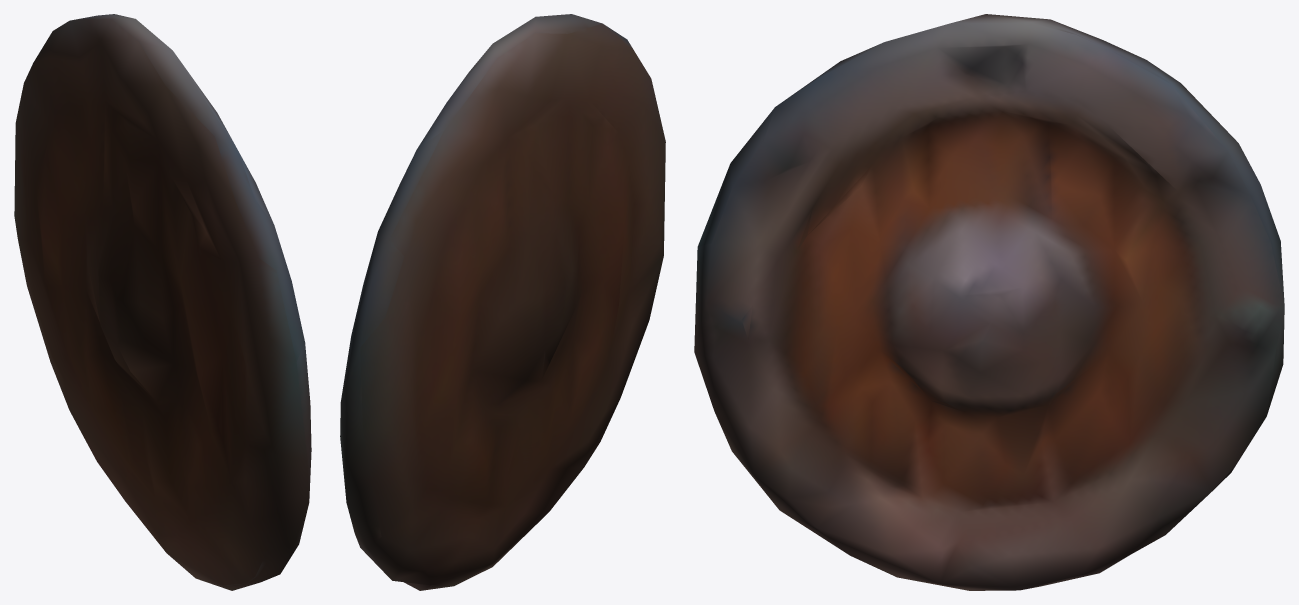
Rendered from shield_silver.glb.
3 views of the same model, side by side, from view 1: azimuth 30°, elevation 25°; view 2: azimuth 150°, elevation 25°; view 3: azimuth 270°, elevation 25° (orthographic).
Parts seen in each view (by area): view 1: model; view 2: model; view 3: model.
Boxes of the visible parts, bbox=[...] form: model: bbox=[14, 14, 311, 590]; model: bbox=[340, 14, 665, 590]; model: bbox=[694, 14, 1284, 590].
Bounding box in the file's own units: 0.1244 × 0.6956 × 0.6724.
1 material, 1 textured.
